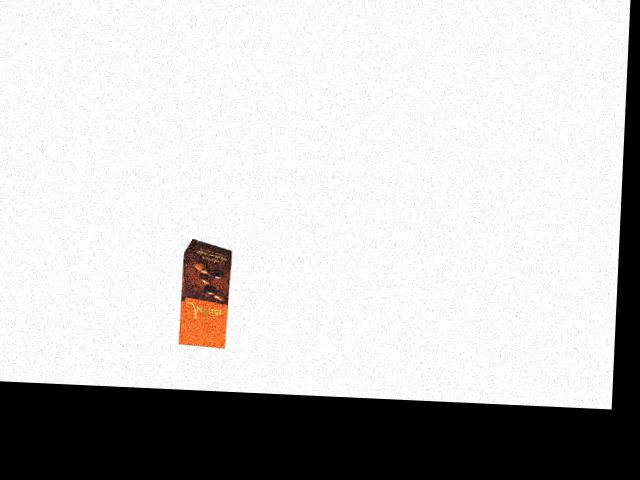chocolate: (176, 239, 238, 348)
